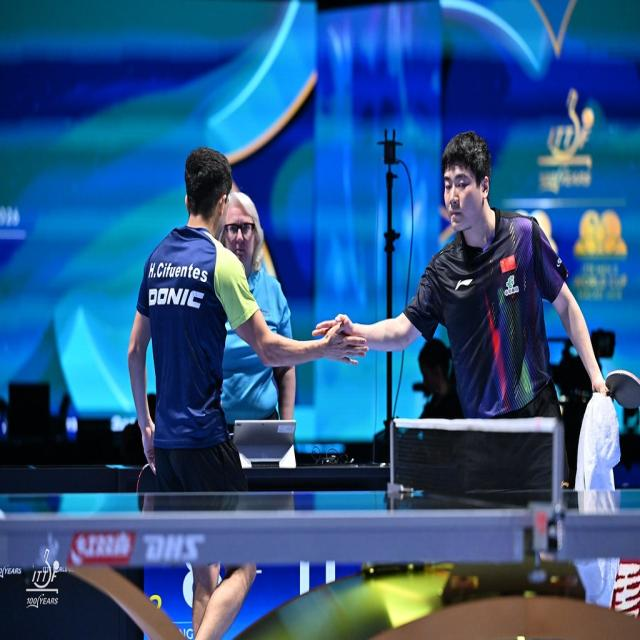TT Net: (388, 411, 566, 537)
TT Racket: (595, 363, 639, 413), (128, 458, 161, 507)
TT Table: (0, 485, 639, 520)
